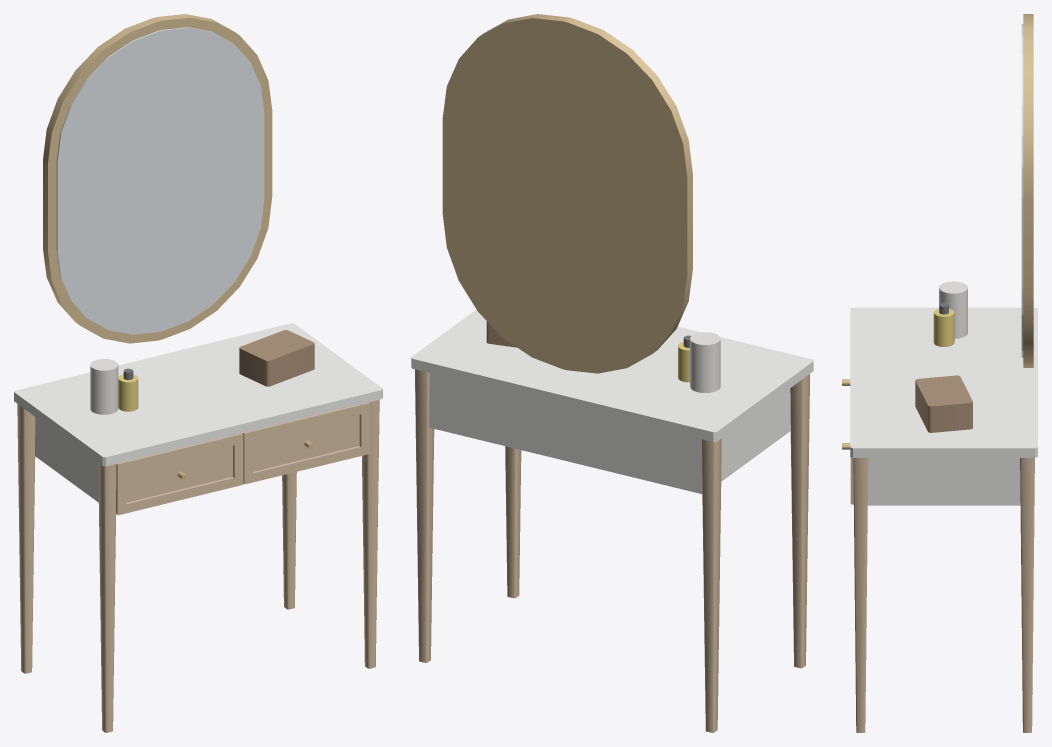
3 renders of one model, left to right at view 1: azimuth 30°, elevation 25°; view 2: azimuth 150°, elevation 25°; view 3: azimuth 270°, elevation 25°, orthographic. The views are drawn at different scales.
Parts seen in each view (by area): view 1: Bàn trang điểm Dài=800; Sâu=450; view 2: Bàn trang điểm Dài=800; Sâu=450; view 3: Bàn trang điểm Dài=800; Sâu=450.
Part boxes in pixels (bbox=[...]): Bàn trang điểm Dài=800; Sâu=450: bbox=[14, 14, 382, 732]; Bàn trang điểm Dài=800; Sâu=450: bbox=[411, 14, 813, 732]; Bàn trang điểm Dài=800; Sâu=450: bbox=[842, 14, 1037, 732].
Size of the model in its own units: 0.8 by 1.69 by 0.47.
